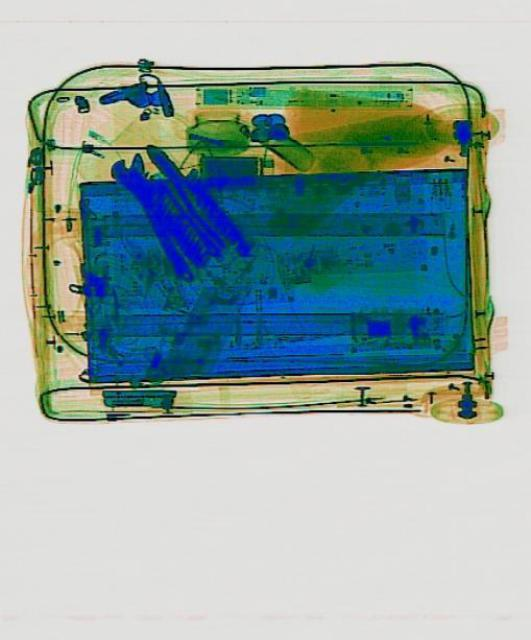Pliers: (136, 132, 239, 258)
Wrench: (104, 143, 207, 289)
